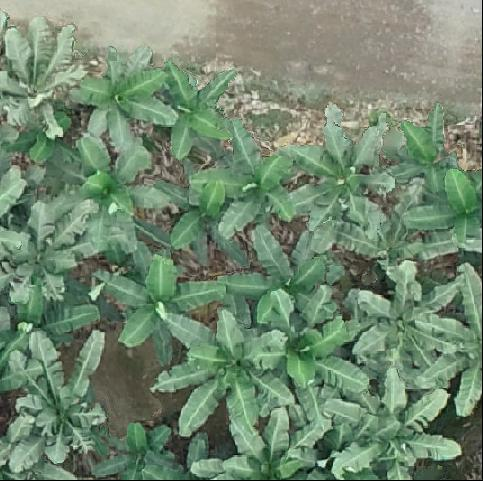Banana-plant: (152, 305, 294, 456), (44, 134, 175, 263), (276, 103, 397, 241), (320, 366, 465, 481), (0, 330, 105, 480), (94, 253, 229, 365), (244, 284, 371, 397), (186, 118, 301, 242), (347, 262, 471, 376), (69, 42, 179, 161), (218, 224, 339, 326), (0, 20, 89, 141), (189, 405, 330, 481), (419, 258, 483, 418), (147, 53, 243, 159), (0, 281, 104, 370), (151, 178, 250, 269), (0, 199, 79, 304), (389, 100, 467, 198), (399, 158, 483, 248), (92, 419, 182, 481)
